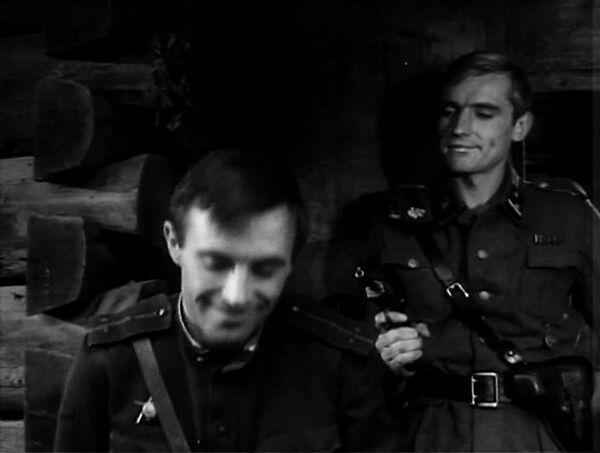Gun: (354, 266, 411, 331)
